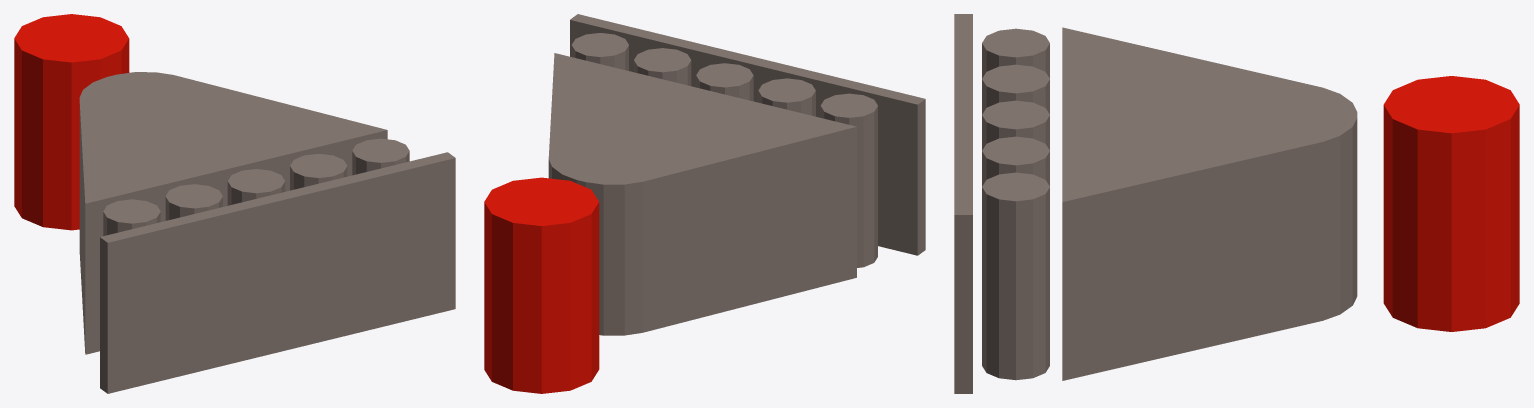
Rendered from csuszocsuklojo.fbx.
3 renders of one model, left to right at view 1: azimuth 30°, elevation 25°; view 2: azimuth 150°, elevation 25°; view 3: azimuth 270°, elevation 25°, orthographic. The views are drawn at different scales.
Parts seen in each view (by area): view 1: Alap, Kornyezet.001, ForgoResz2, CsuszoResz3, CsuszoResz4, CsuszoResz1, CsuszoResz5, CsuszoResz2; view 2: Kornyezet.001, ForgoResz2, Alap, CsuszoResz5, CsuszoResz2, CsuszoResz3, CsuszoResz4, CsuszoResz1; view 3: Kornyezet.001, ForgoResz2, CsuszoResz1, Alap, CsuszoResz2, CsuszoResz5, CsuszoResz3, CsuszoResz4.
Boxes of the visible parts, box(x1,y1,x2,y2) form: Alap: box(100, 152, 455, 393); Kornyezet.001: box(79, 72, 387, 354); ForgoResz2: box(14, 14, 129, 230); CsuszoResz3: box(227, 169, 285, 205); CsuszoResz4: box(165, 184, 222, 220); CsuszoResz1: box(352, 138, 409, 175); CsuszoResz5: box(103, 199, 160, 235); CsuszoResz2: box(290, 153, 347, 190); Kornyezet.001: box(548, 53, 856, 335); ForgoResz2: box(484, 177, 599, 393); Alap: box(570, 14, 925, 255); CsuszoResz5: box(820, 93, 877, 267); CsuszoResz2: box(634, 48, 691, 85); CsuszoResz3: box(696, 63, 753, 101); CsuszoResz4: box(758, 78, 815, 116); CsuszoResz1: box(571, 33, 628, 70); Kornyezet.001: box(1062, 27, 1357, 380); ForgoResz2: box(1383, 76, 1519, 331); CsuszoResz1: box(982, 172, 1049, 380); Alap: box(954, 14, 972, 393); CsuszoResz2: box(982, 136, 1049, 186); CsuszoResz5: box(982, 28, 1049, 78); CsuszoResz3: box(982, 100, 1049, 150); CsuszoResz4: box(982, 64, 1049, 114).
Bounding box in the file's own units: 6.44 × 13.98 × 16.62.
